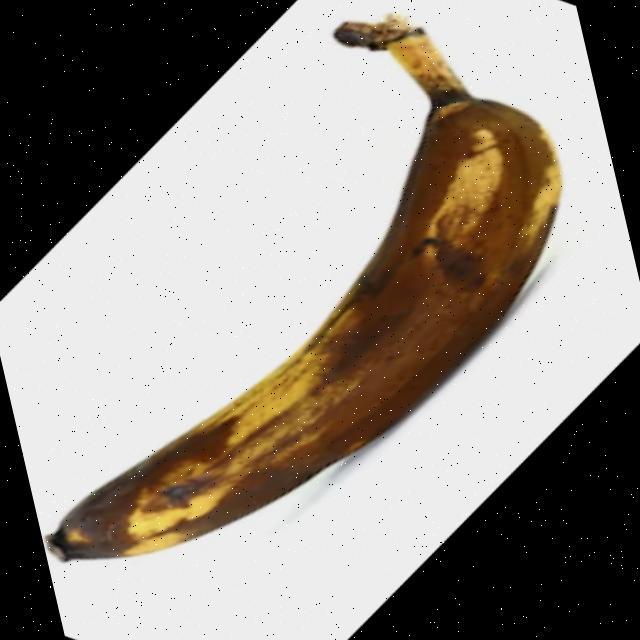overripe: (0, 15, 623, 578)
